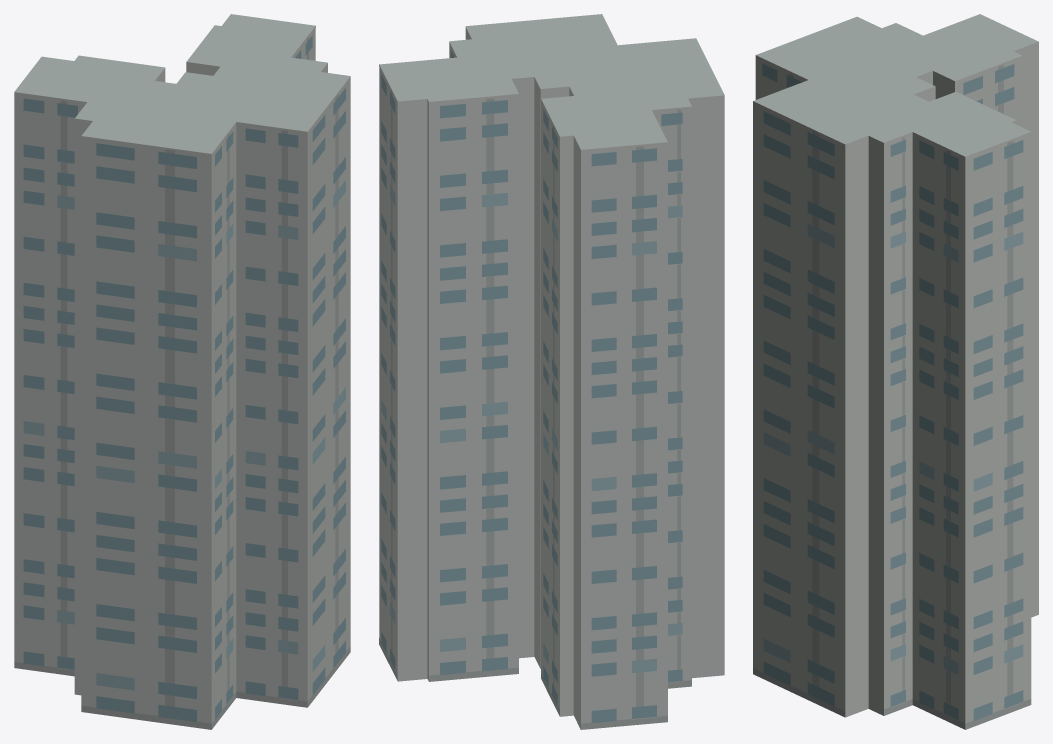
Rendered from residential-5c92724b-d36d-48cd-b7a2-1d96c7fb1b13.glb.
3 views of the same model, side by side, from view 1: azimuth 30°, elevation 25°; view 2: azimuth 150°, elevation 25°; view 3: azimuth 270°, elevation 25° (orthographic).
Visible parts, largest first — view 1: residential-5c92724b-d36d-48cd-b7a2-1d96c7fb1b13.tmp; view 2: residential-5c92724b-d36d-48cd-b7a2-1d96c7fb1b13.tmp; view 3: residential-5c92724b-d36d-48cd-b7a2-1d96c7fb1b13.tmp.
Boxes of the visible parts, box(x1,y1,x2,y2) form: residential-5c92724b-d36d-48cd-b7a2-1d96c7fb1b13.tmp: box(14, 14, 350, 729); residential-5c92724b-d36d-48cd-b7a2-1d96c7fb1b13.tmp: box(379, 14, 724, 729); residential-5c92724b-d36d-48cd-b7a2-1d96c7fb1b13.tmp: box(753, 14, 1038, 729).
Size of the model in its own units: 37.95 by 71 by 32.09.
